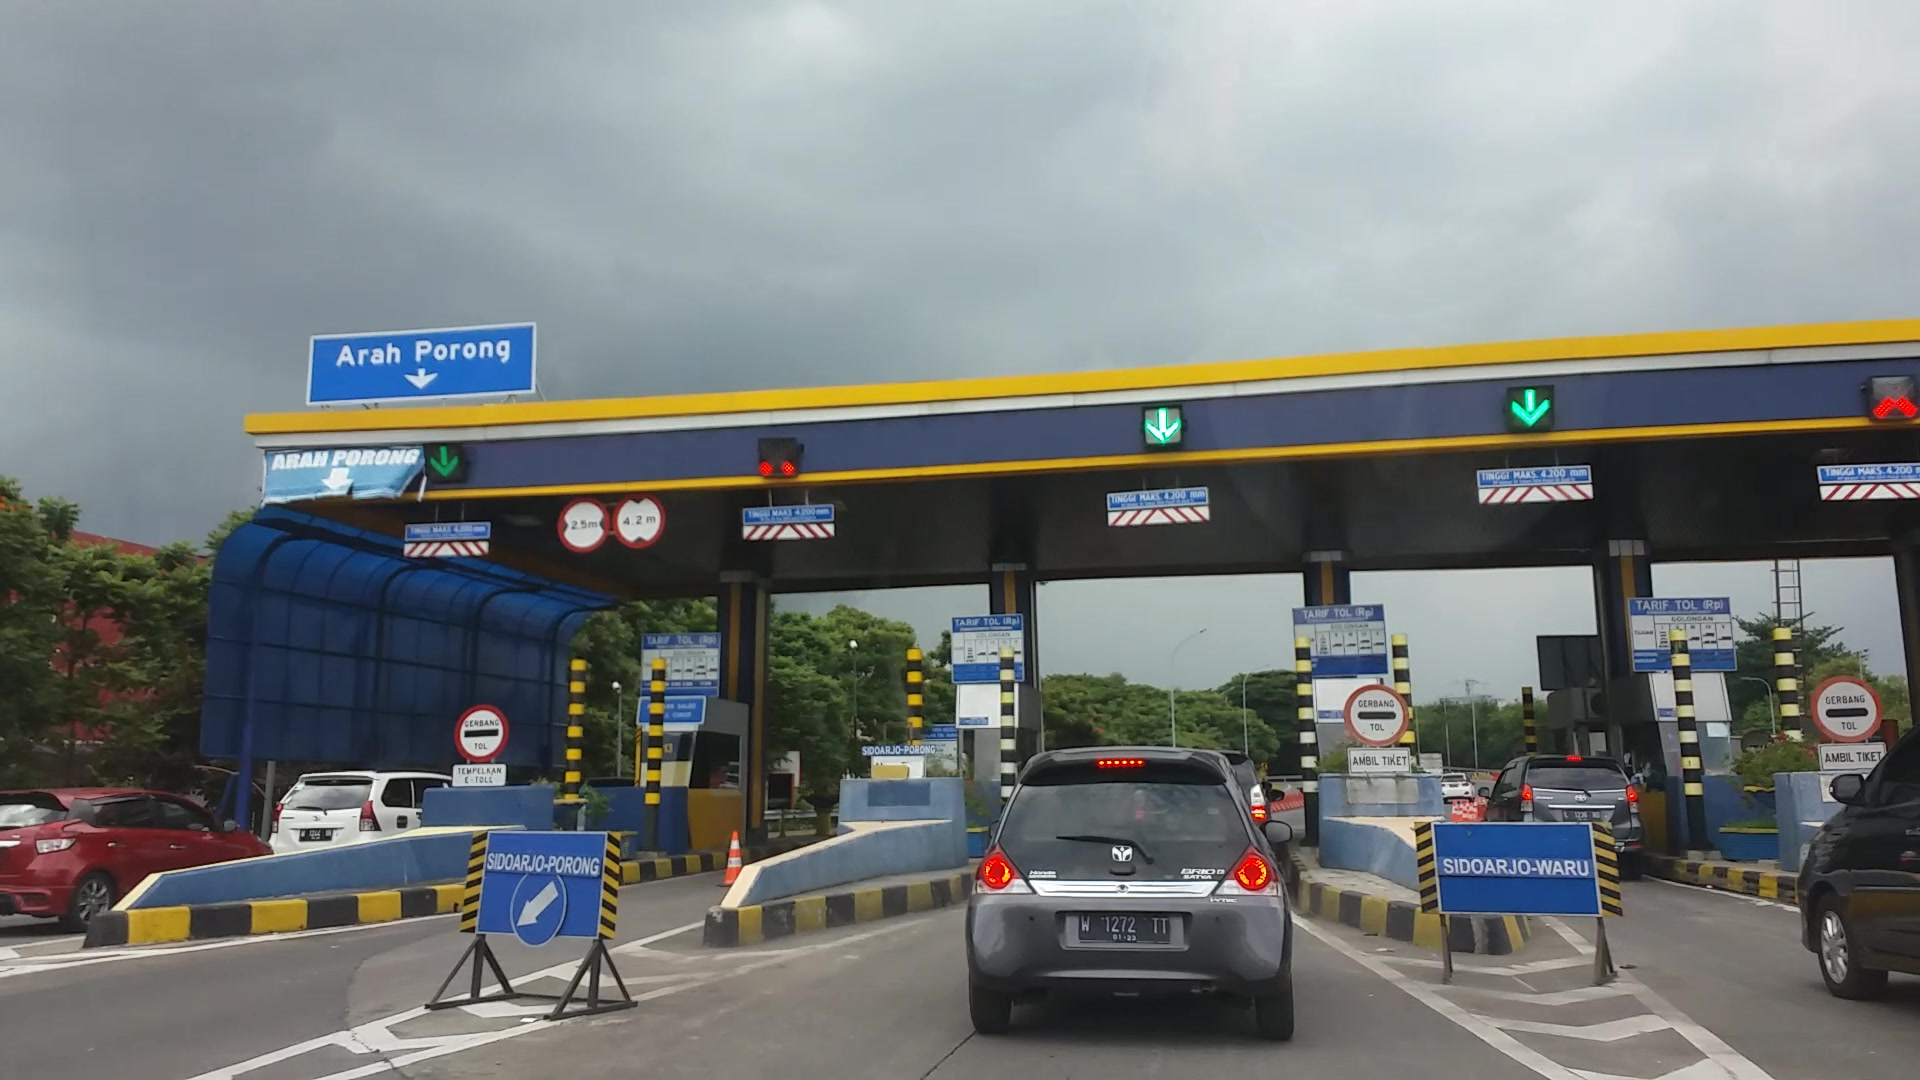plate_positive: (1077, 913, 1171, 944)
